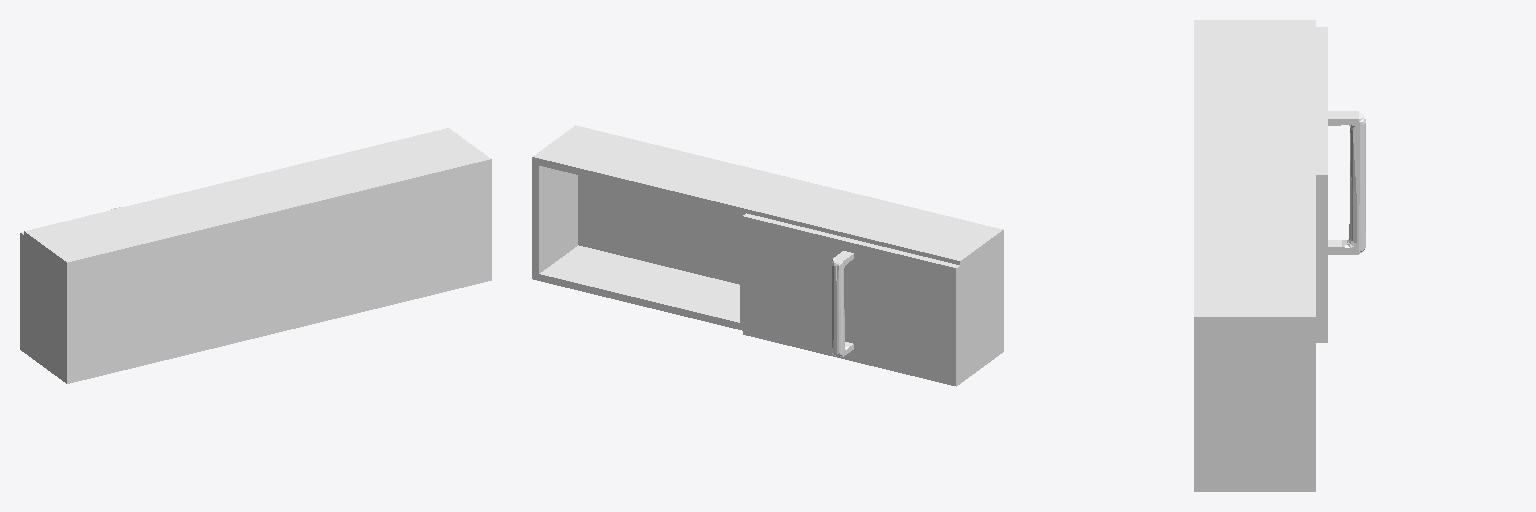
robot.urdf — table:
<?xml version="1.0" ?>
<robot name="table">
    <!-- The table -->
    <link name="baseLink">
        <contact>
            <lateral_friction value="0.5"/>
        </contact>
        <inertial>
            <origin rpy="0 0 0" xyz="0.425016 0.151115 0.615396"/>
            <mass value="0.0"/>
            <inertia ixx="0.003734" ixy="0.000094" ixz="-0.000492" iyy="0.006571" iyz="0.000494" izz="0.004455"/>
        </inertial>
        <visual>
            <origin rpy="0 0 0" xyz="0 0 0"/>
            <geometry>
            <mesh filename="../meshes/table/table.obj" scale="1.0 1.0 1.0"/>
            </geometry>
            <material name="white">
            <color rgba="1 1 1 1"/>
            </material>
        </visual>
        <collision>
            <origin rpy="0 0 0" xyz="0 0 0"/>
            <geometry>
            <mesh filename="../meshes/table/table_vhacd2.obj" scale="1.0 1.0 1.0"/>
            </geometry>
        </collision>
    </link>

    <!-- bottom right shelf -->
    <link name="bottom_right_table">
        <contact>
            <lateral_friction value="0.5"/>
        </contact>
        <inertial>
            <origin rpy="0 0 0" xyz="0.355063 0.161921 0.899693"/>
            <mass value="1.0"/>
            <inertia ixx="0.000715" ixy="-0.000003" ixz="0.000000" iyy="0.001669" iyz="0.000001" izz="0.001690"/>
        </inertial>
        <visual>
            <origin rpy="0 0 0" xyz="0 0 0"/>
            <geometry>
            <mesh filename="../meshes/bottom_right_shelf/bottom_right_shelf.obj" scale="1.0 1.0 1.0"/>
            </geometry>
            <material name="white">
            <color rgba="1 1 1 1"/>
            </material>
        </visual>
        <collision>
            <origin rpy="0 0 0" xyz="0 0 0"/>
            <geometry>
            <mesh filename="../meshes/bottom_right_shelf/bottom_right_shelf_vhacd2.obj" scale="1.0 1.0 1.0"/>
            </geometry>
        </collision>
    </link>

    <!-- sliding door -->
    <link name="slideDoor">
        <contact>
            <lateral_friction value="0.5"/>
        </contact>
        <inertial>
            <origin rpy="0 0 0" xyz="0.205081 0.211543 0.749504"/>
            <mass value="1.0"/>
            <inertia ixx="0.000008" ixy="-0.000000" ixz="0.000000" iyy="0.000036" iyz="0.000000" izz="0.000028"/>
        </inertial>
        <visual>
            <origin rpy="0 0 0" xyz="0 0 0"/>
            <geometry>
            <mesh filename="../meshes/sliding_door/sliding_door_round_big_handle.obj" scale="1.0 1.0 1.0"/>
            </geometry>
            <material name="white">
            <color rgba="1 1 1 1"/>
            </material>
        </visual>
        <collision>
            <origin rpy="0 0 0" xyz="0 0 0"/>
            <geometry>
            <mesh filename="../meshes/sliding_door/sliding_door_round_big_handle_vhacd2.obj" scale="1.0 1.0 1.0"/>
            </geometry>
        </collision>
    </link>

    <!-- bottom left shelf-->
    <link name="bottom_left_table">
    <contact>
        <lateral_friction value="0.5"/>
    </contact>
    <inertial>
        <origin rpy="0 0 0" xyz="1.055605 0.164137 0.903363"/>
        <mass value="1.0"/>
        <inertia ixx="0.000758" ixy="-0.000002" ixz="0.000002" iyy="0.001665" iyz="-0.000003" izz="0.001678"/>
    </inertial>
    <visual>
        <origin rpy="0 0 0" xyz="0 0 0"/>
        <geometry>
        <mesh filename="../meshes/bottom_left_shelf/bottom_left_shelf.obj" scale="1.0 1.0 1.0"/>
        </geometry>
        <material name="white">
        <color rgba="1 1 1 1"/>
        </material>
    </visual>
    <collision>
        <origin rpy="0 0 0" xyz="0 0 0"/>
        <geometry>
        <mesh filename="../meshes/bottom_left_shelf/bottom_left_shelf_vhacd2.obj" scale="1.0 1.0 1.0"/>
        </geometry>
    </collision>
    </link>

    <!-- joint connecting the slide door with the (bottom right) shelf-->
    <joint name="slide_door_joint" type="prismatic">
        <origin rpy="0 0 0" xyz="0 0 0"/>
        <parent link="bottom_right_table"/>
        <child link="slideDoor"/>
        <dynamics damping="1.0" friction="0.5"/>
        <limit effort="500" lower="0.0" upper="0.7" velocity="3.0"/>
        <axis xyz="0.9 0 0"/>
    </joint>

    <!-- fixed links to connect the shelfs with the base of the playtable-->
    <joint name="bottom_left_shelf_2_base" type="fixed">
        <origin xyz="0.0 0.0 0.0" rpy="0.0 0.0 0.0"/>
        <parent link="baseLink"/>
        <child link="bottom_left_table"/>
    </joint>

    <joint name="bottom_right_shelf_2_base" type="fixed">
        <origin xyz="0.0 0.0 0.0" rpy="0.0 0.0 0.0"/>
        <parent link="baseLink"/>
        <child link="bottom_right_table"/>
    </joint>

</robot>

--- What the picture shows (computed from the rendered views, not written in the file) ---
The picture shows the robot from 3 angles, left to right: view 1: azimuth 30°, elevation 25°; view 2: azimuth 150°, elevation 25°; view 3: azimuth 270°, elevation 25°; orthographic projection.
Model table with 4 links and 3 joints (1 prismatic, 2 fixed), rooted at baseLink, posed every joint at zero.
Links seen in each view (by area): view 1: bottom_right_table, bottom_left_table; view 2: bottom_left_table, slideDoor, bottom_right_table; view 3: bottom_left_table, bottom_right_table, slideDoor.
Boxes of the visible links, bbox=[...] form: bottom_right_table: bbox=[24, 180, 278, 383]; bottom_left_table: bbox=[237, 128, 491, 331]; bottom_left_table: bbox=[532, 125, 789, 330]; slideDoor: bbox=[743, 213, 959, 386]; bottom_right_table: bbox=[746, 178, 1003, 383]; bottom_left_table: bbox=[1194, 169, 1315, 491]; bottom_right_table: bbox=[1194, 20, 1315, 168]; slideDoor: bbox=[1316, 27, 1365, 342].
Bounding box of the posed robot: 1.26 × 0.3094 × 0.345 m (x, y, z).
3 mesh visuals loaded from 4 distinct referenced files (3 OBJ); not drawn: 1 (reference not matched to a file when rendering).